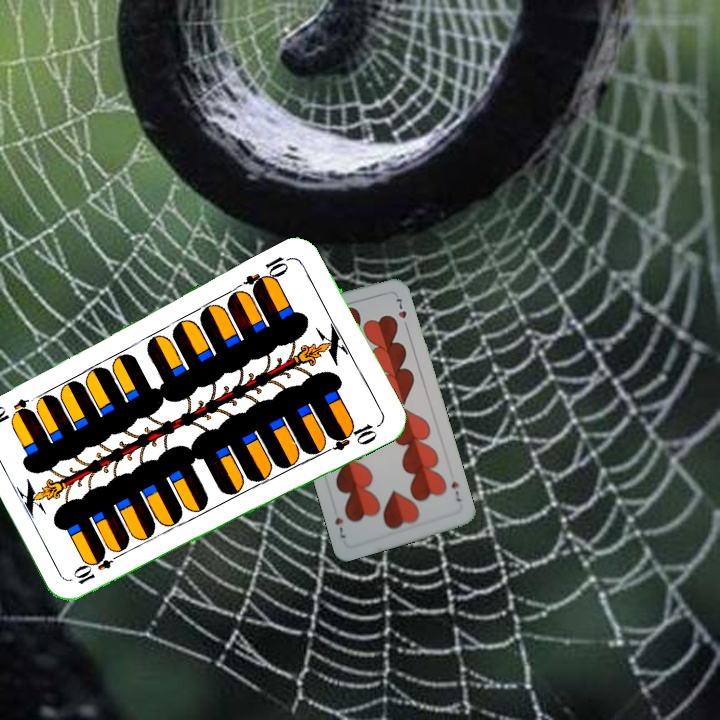E10: (241, 252, 297, 295), (68, 545, 124, 587)
H7: (447, 477, 464, 504)
